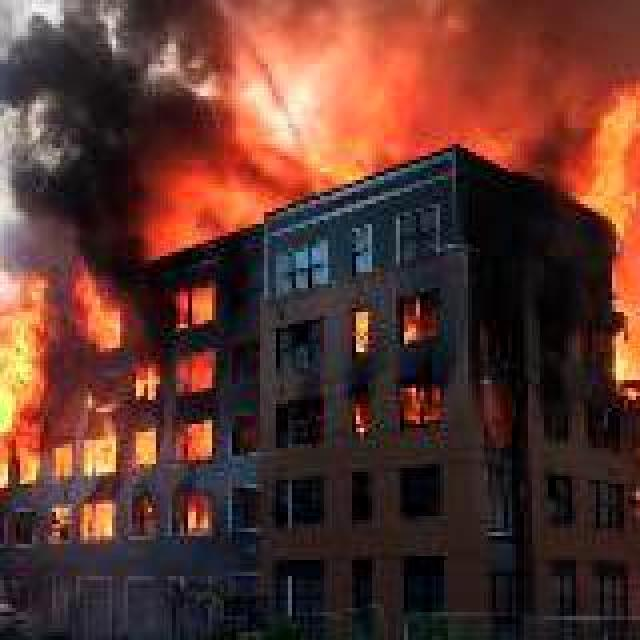fire: (8, 28, 176, 340), (52, 0, 312, 200), (0, 260, 116, 544), (422, 0, 640, 130), (480, 104, 580, 324), (340, 292, 436, 420), (584, 64, 640, 236), (128, 352, 164, 476), (172, 480, 212, 536)
